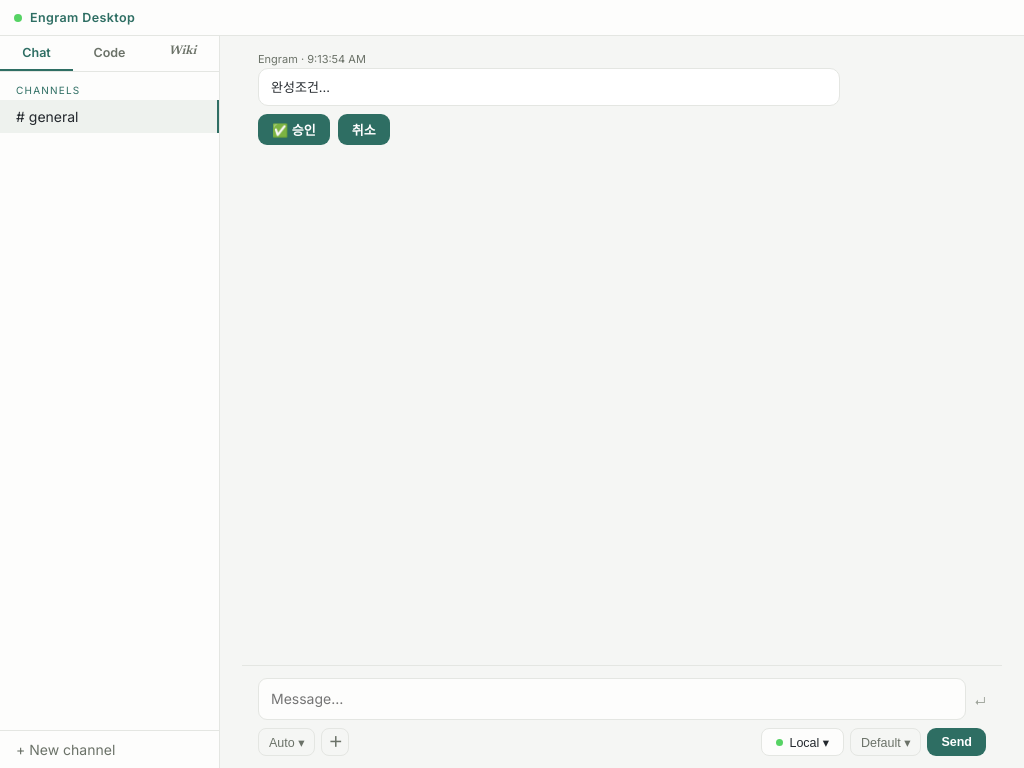
it: 이미 쓴 버튼 숨기기 › 클릭하면 answersId(카드 id)와 함께 전송되고, 그 답이 오면 버튼이 사라진다
The image size is (1024, 768).
Expected: the text "# general" is shown, [16,108,78,125]
Click the button "✅ 승인": (294, 130) [258,114,330,145]
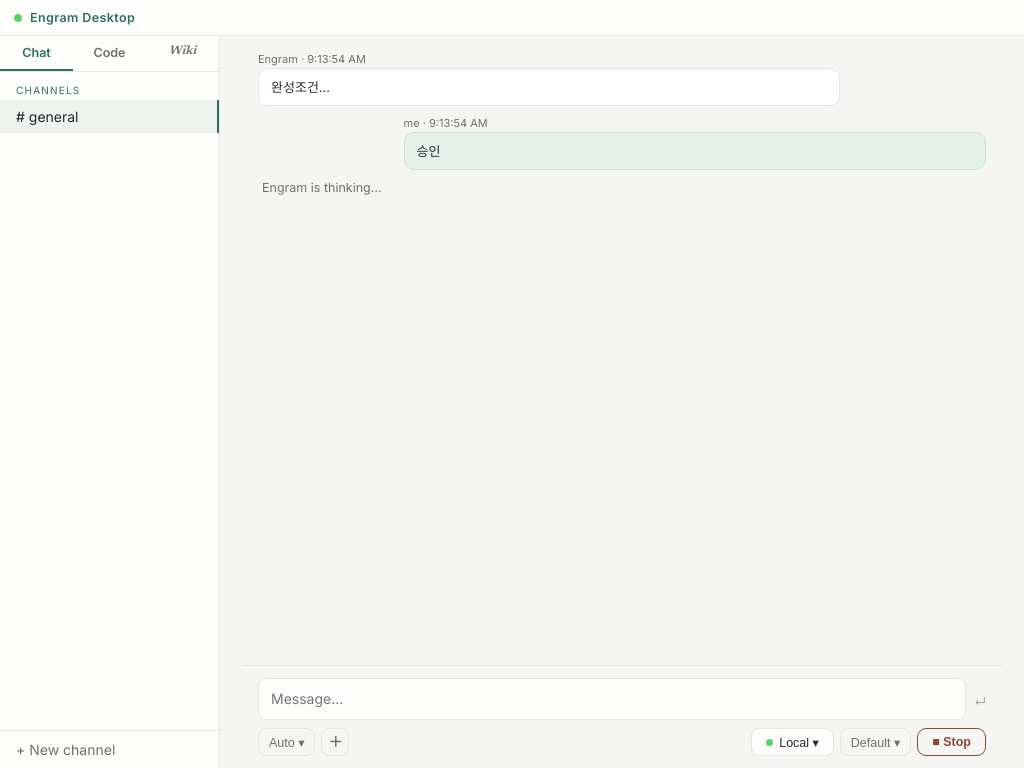
Expected: the text "완성조건…" is shown, [258,68,840,106]
Expected: the button "✅ 승인" is gone
Expected: the button "취소" is gone
